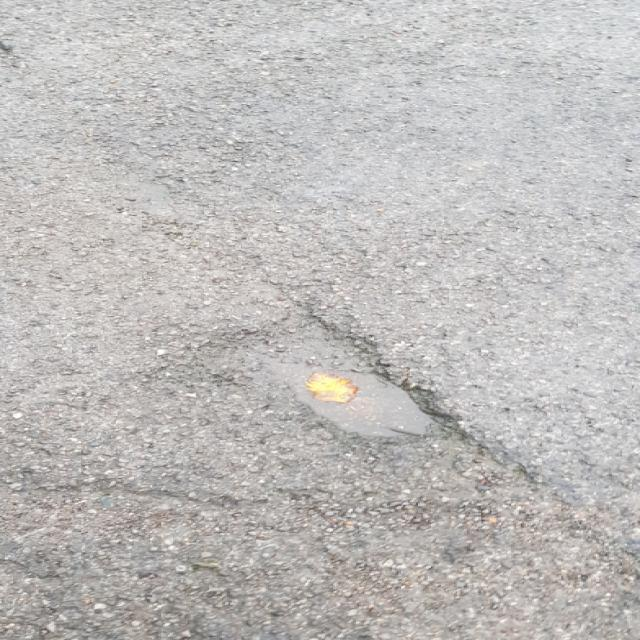pothole: (196, 304, 468, 448)
